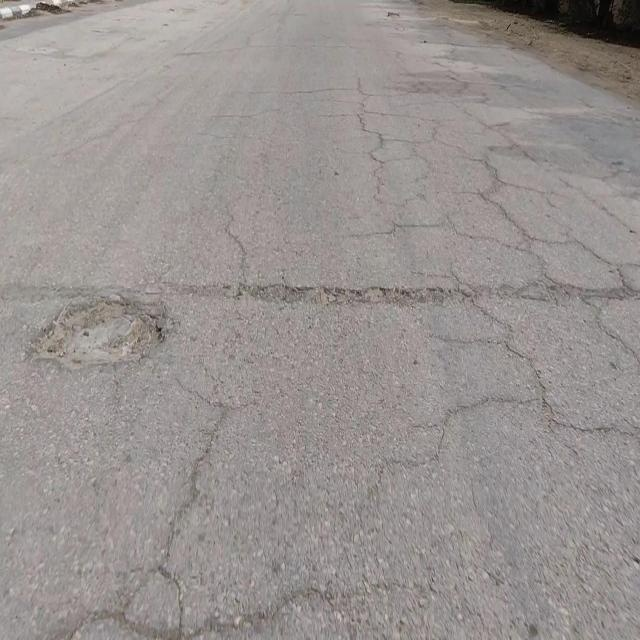pothole: (26, 292, 168, 375), (225, 284, 465, 304)
